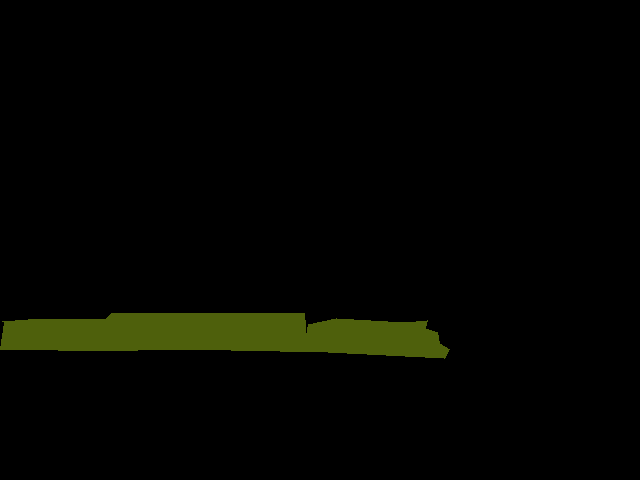Train: (0, 313, 449, 359)
